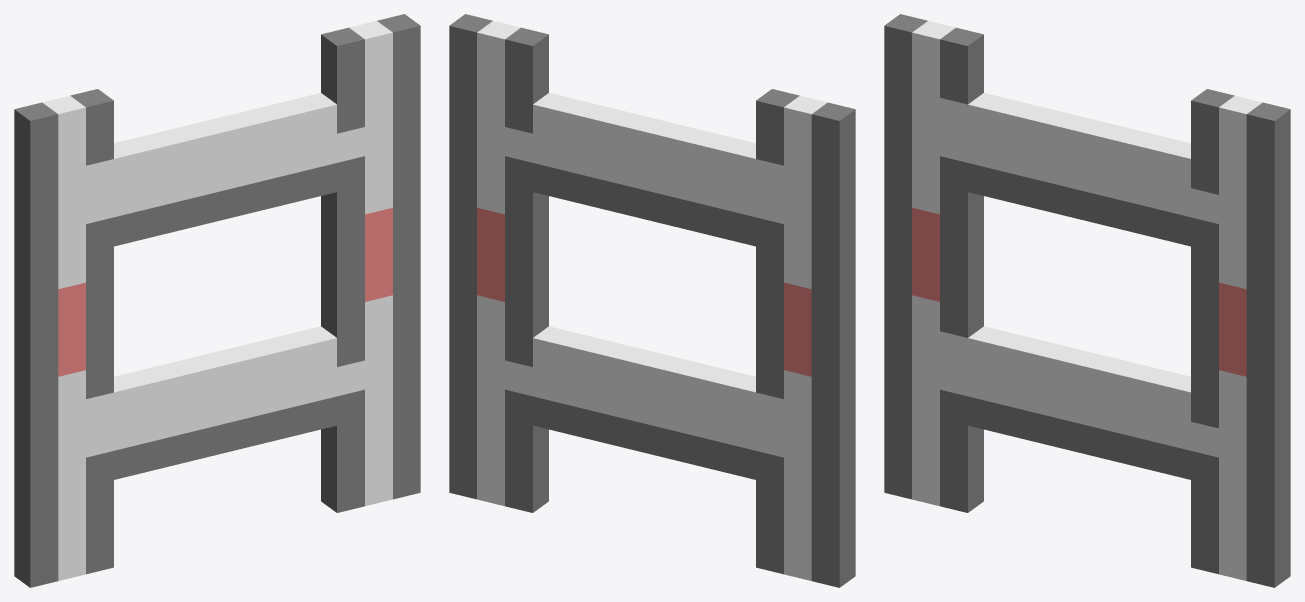
Rendered from Stair3.obj.
The picture shows the model from 3 angles, left to right: view 1: azimuth 30°, elevation 25°; view 2: azimuth 150°, elevation 25°; view 3: azimuth 330°, elevation 25°; orthographic projection.
Bounding box in the file's own units: 1.4 × 1.6 × 0.1.
1 material, 1 textured.
